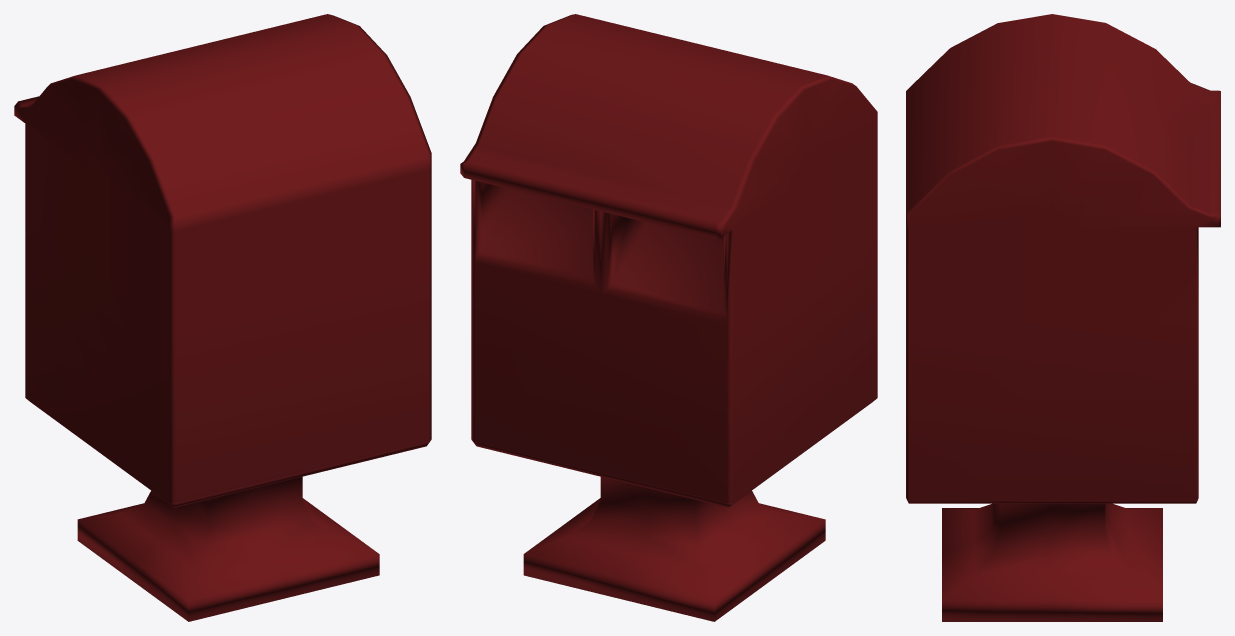
The model's file is CNJ_MailBox_SM.fbx.
3 renders of one model, left to right at view 1: azimuth 30°, elevation 25°; view 2: azimuth 150°, elevation 25°; view 3: azimuth 270°, elevation 25°, orthographic.
Visible parts, largest first — view 1: CNJ_MailBox_SM; view 2: CNJ_MailBox_SM; view 3: CNJ_MailBox_SM.
Boxes of the visible parts, <box> form: CNJ_MailBox_SM: <box>14,14,431,621</box>; CNJ_MailBox_SM: <box>460,14,877,621</box>; CNJ_MailBox_SM: <box>906,14,1220,621</box>.
Bounding box in the file's own units: 73.55 × 135 × 76.79.
